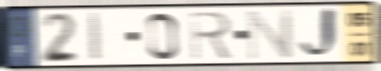0: (146, 11, 179, 62)
2: (39, 11, 80, 65)
I: (86, 11, 104, 64)
J: (298, 5, 341, 63)
N: (245, 8, 296, 62)
R: (188, 9, 235, 62)
